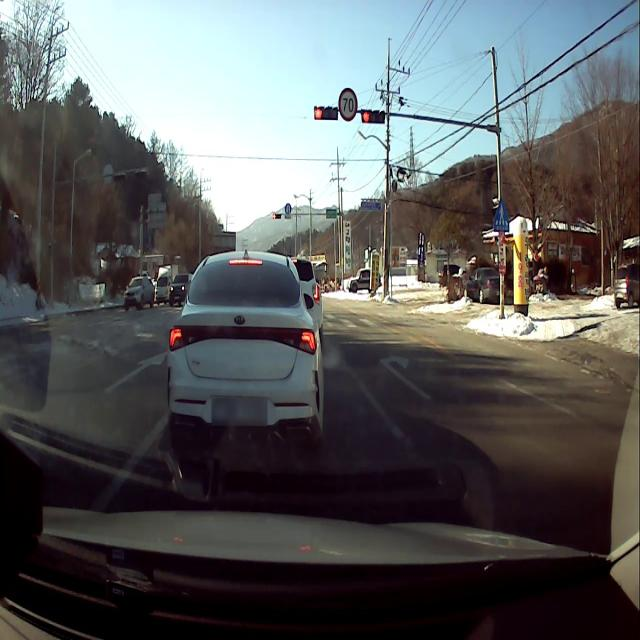Red Light: (314, 105, 323, 122), (361, 109, 370, 124)
